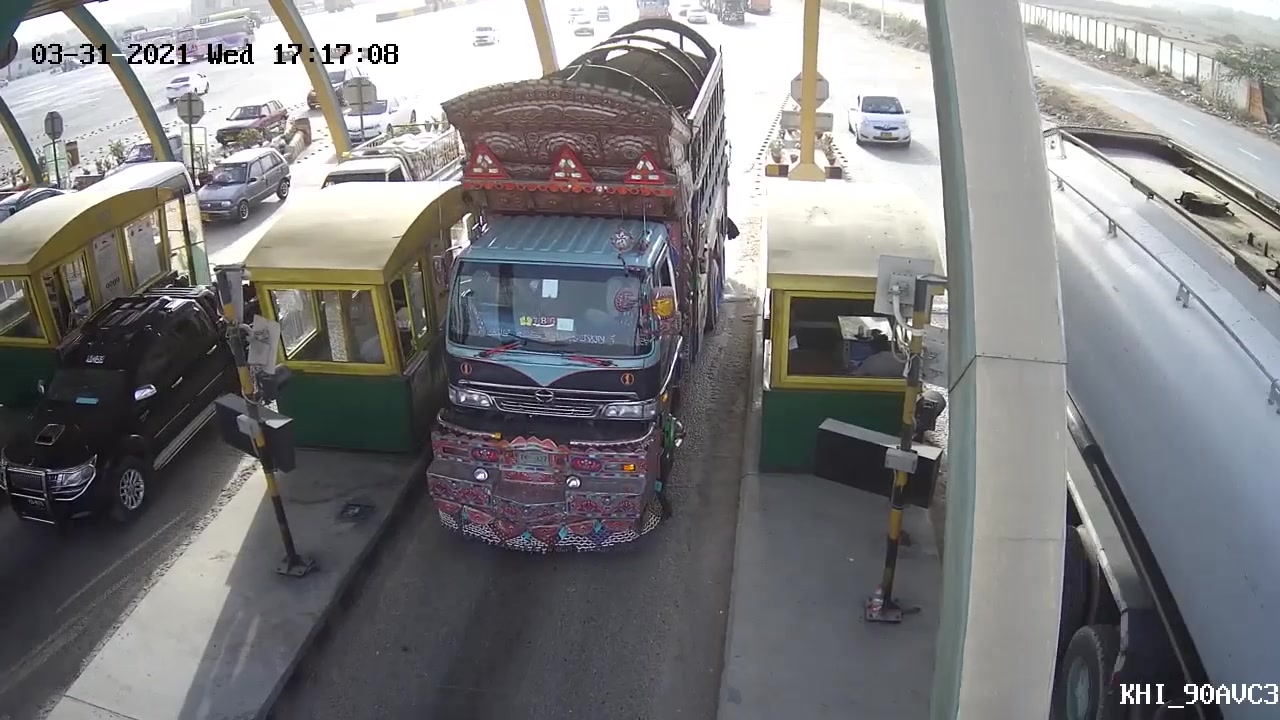F5: (424, 15, 734, 560)
